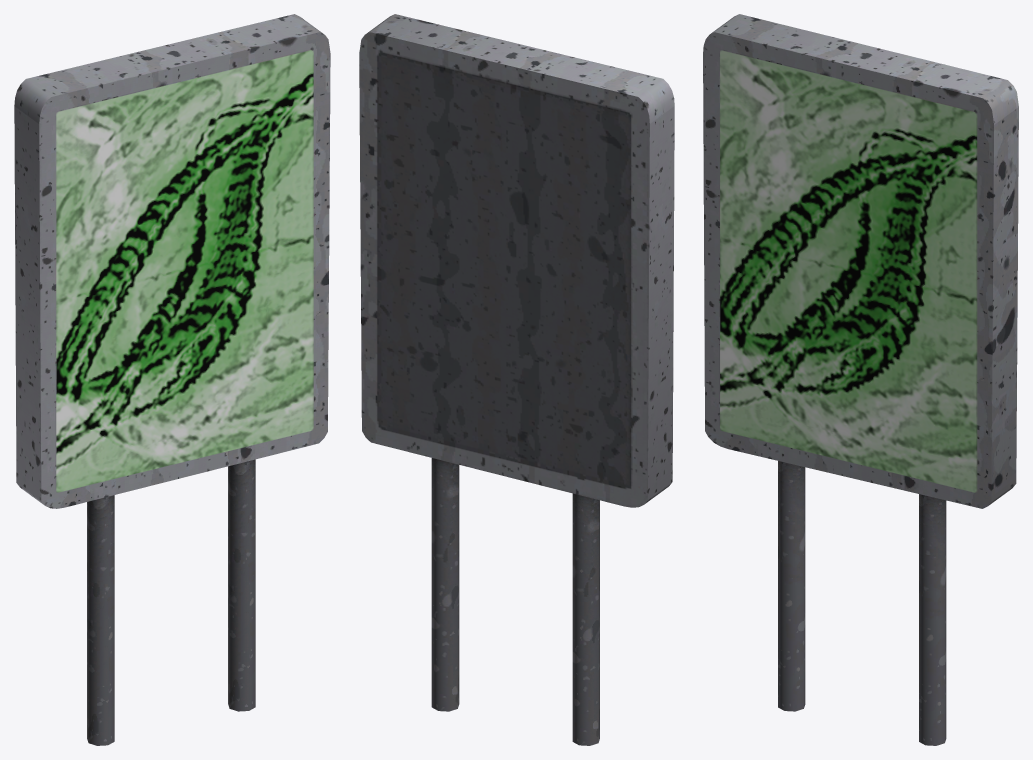
Rendered from Sign2.gltf.
The picture shows the model from 3 angles, left to right: view 1: azimuth 30°, elevation 25°; view 2: azimuth 150°, elevation 25°; view 3: azimuth 330°, elevation 25°; orthographic projection.
Parts seen in each view (by area): view 1: Schild; view 2: Schild; view 3: Schild.
Part boxes in pixels (<box>): Schild: <box>14,14,330,745</box>; Schild: <box>359,14,674,745</box>; Schild: <box>703,14,1018,745</box>.
Size of the model in its own units: 4.2 by 9.2 by 0.6211.
Materials: 1 (1 with a texture image).
